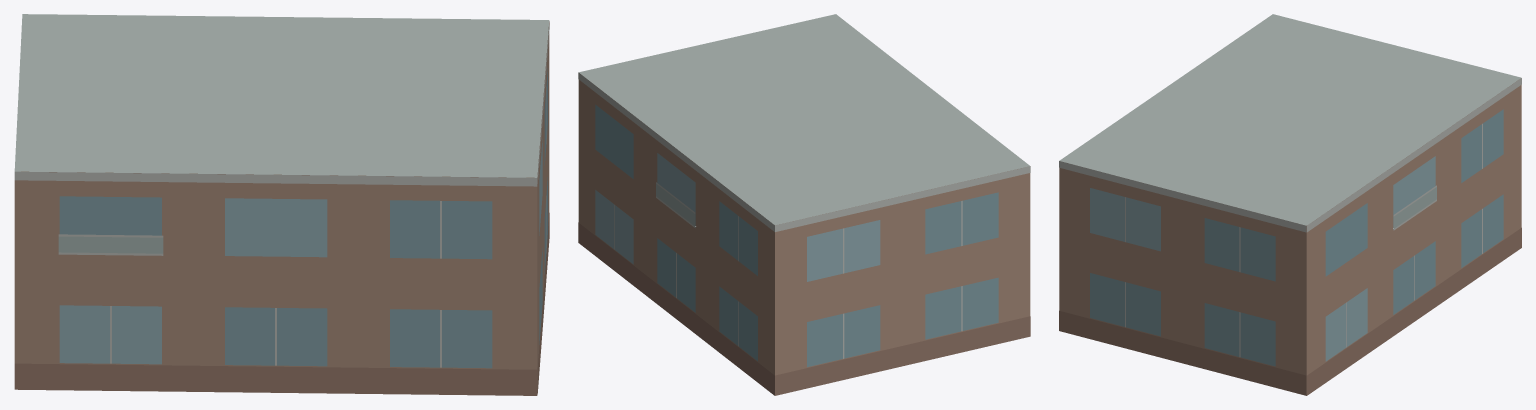
Rendered from survey-upis-33042784.glb.
3 views of the same model, side by side, from view 1: azimuth 30°, elevation 25°; view 2: azimuth 150°, elevation 25°; view 3: azimuth 270°, elevation 25° (orthographic). The views are drawn at different scales.
Parts seen in each view (by area): view 1: survey-upis-33042784.tmp; view 2: survey-upis-33042784.tmp; view 3: survey-upis-33042784.tmp.
Part boxes in pixels (box(x1,y1,x2,y2)): survey-upis-33042784.tmp: box(14, 14, 549, 395); survey-upis-33042784.tmp: box(578, 14, 1030, 395); survey-upis-33042784.tmp: box(1059, 14, 1521, 395).
Size of the model in its own units: 16.3 by 6.1 by 15.05.
